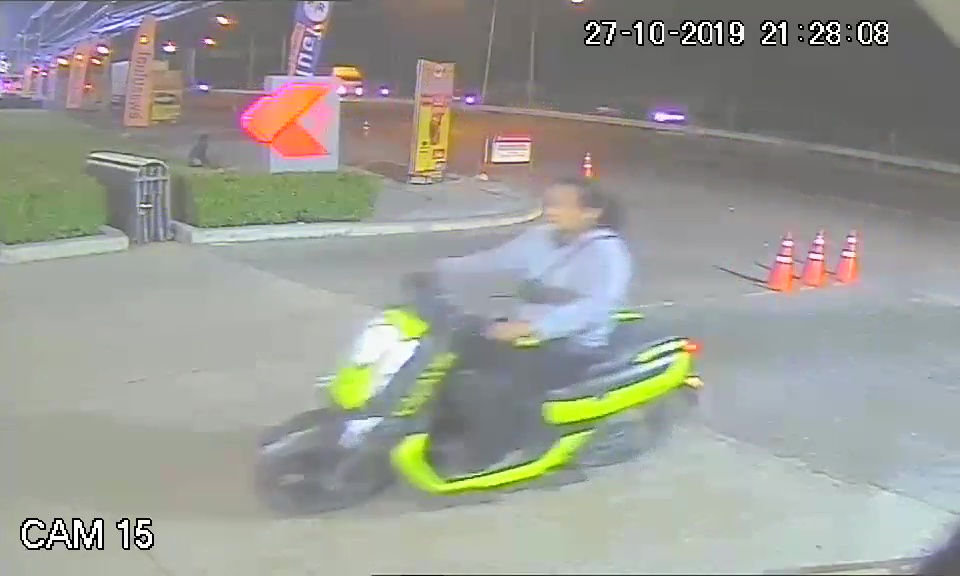motorcycle: (254, 302, 706, 507)
